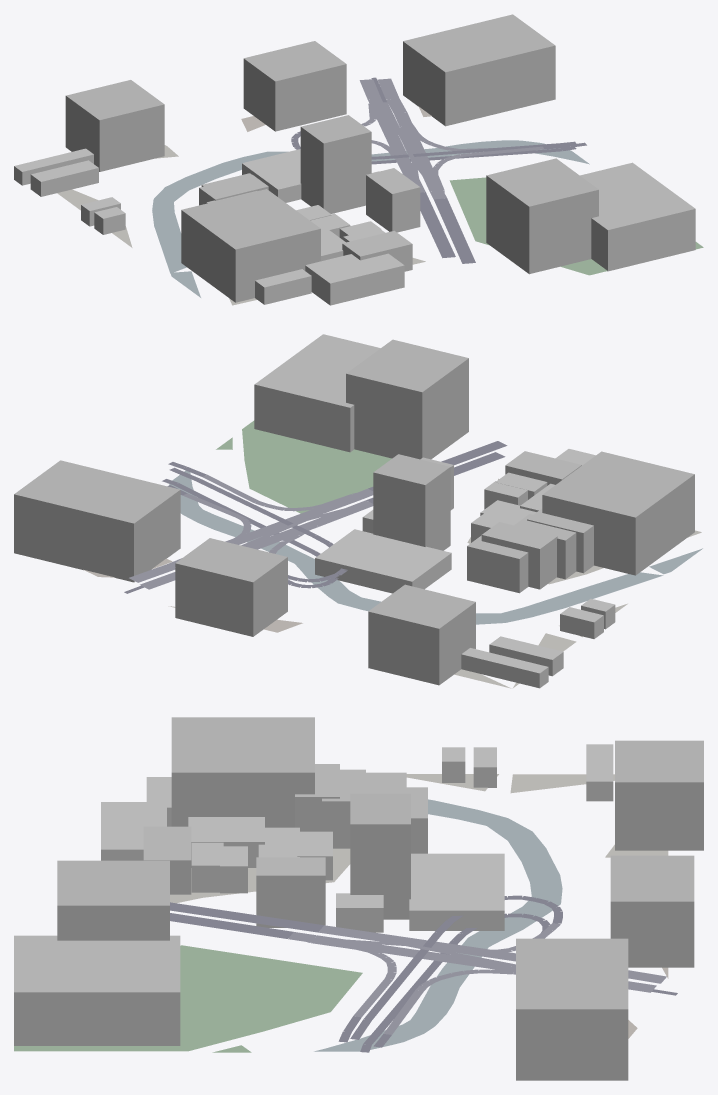
The model's file is 128_102_mid.glb.
3 views of the same model, one above another, from view 1: azimuth 30°, elevation 25°; view 2: azimuth 150°, elevation 25°; view 3: azimuth 270°, elevation 25° (orthographic). The views are drawn at different scales.
Size of the model in its own units: 570 by 82.11 by 527.
